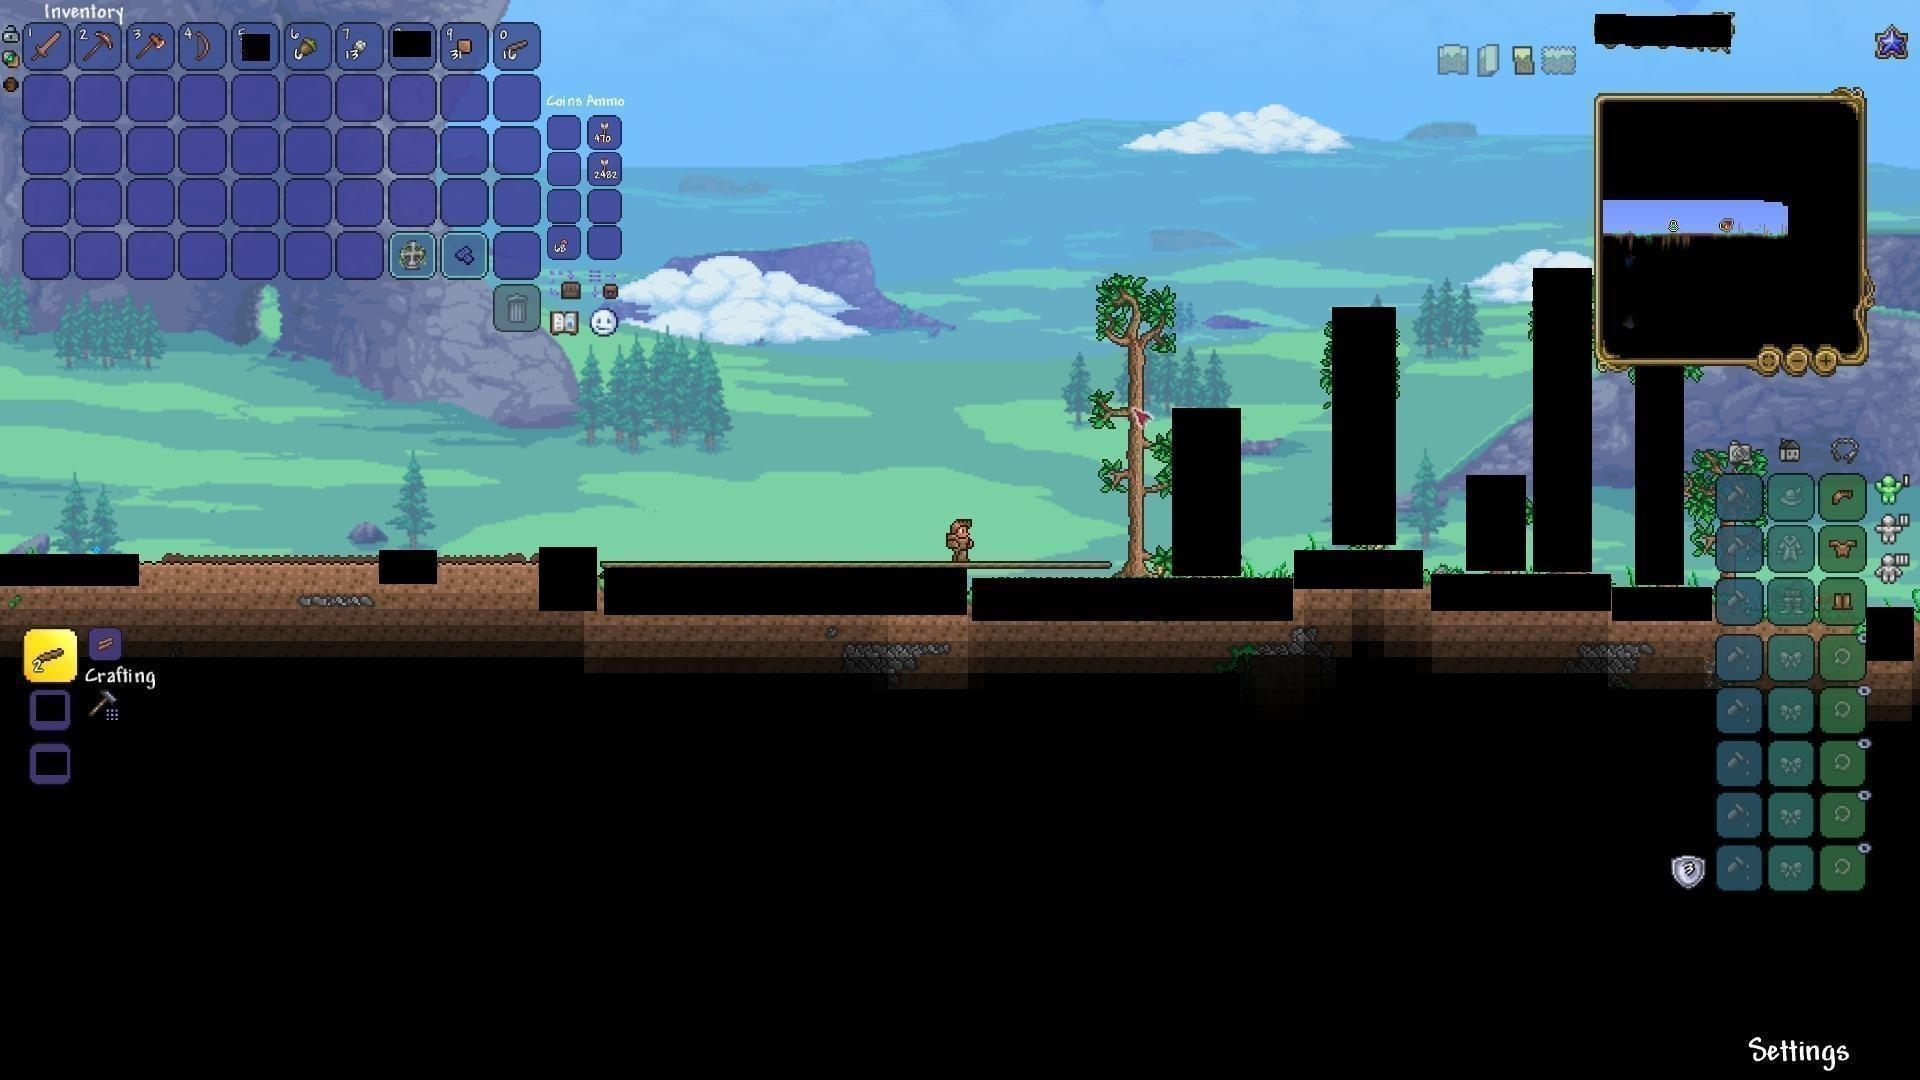breastplate: (1829, 537, 1859, 558)
helmet: (1826, 483, 1858, 512)
legs: (1830, 585, 1855, 616)
tree: (1093, 258, 1170, 574)
wood: (88, 628, 120, 658)
